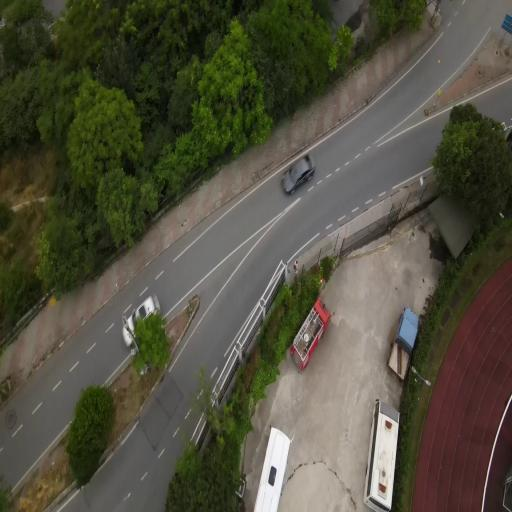bus: (364, 401, 399, 511), (255, 428, 291, 511)
car: (123, 295, 159, 347), (282, 156, 315, 193)
truck: (291, 298, 331, 370), (388, 307, 419, 380)
